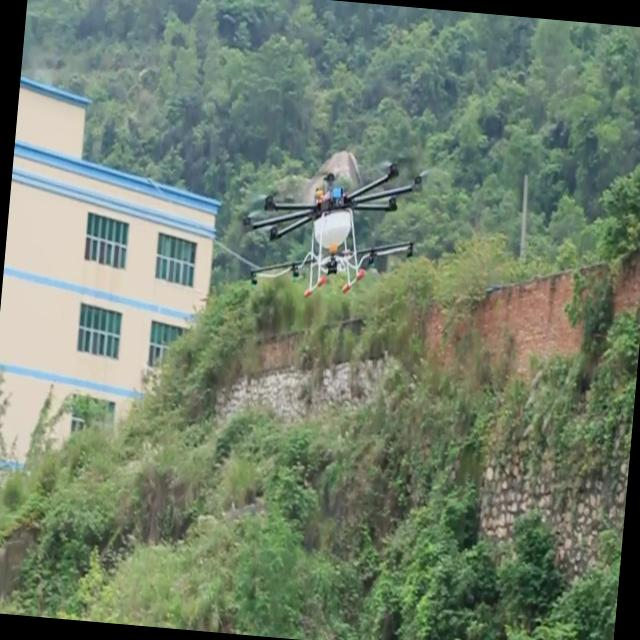drone: (235, 146, 428, 310)
